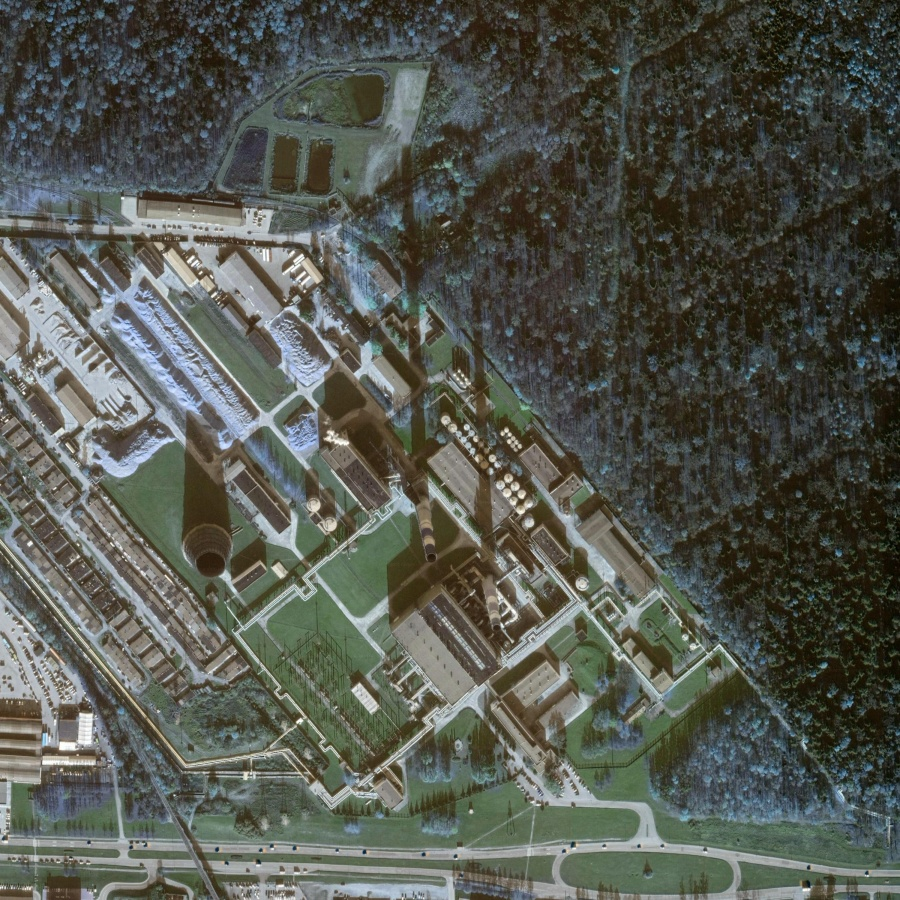PowerPlant: (157, 301, 693, 748)
